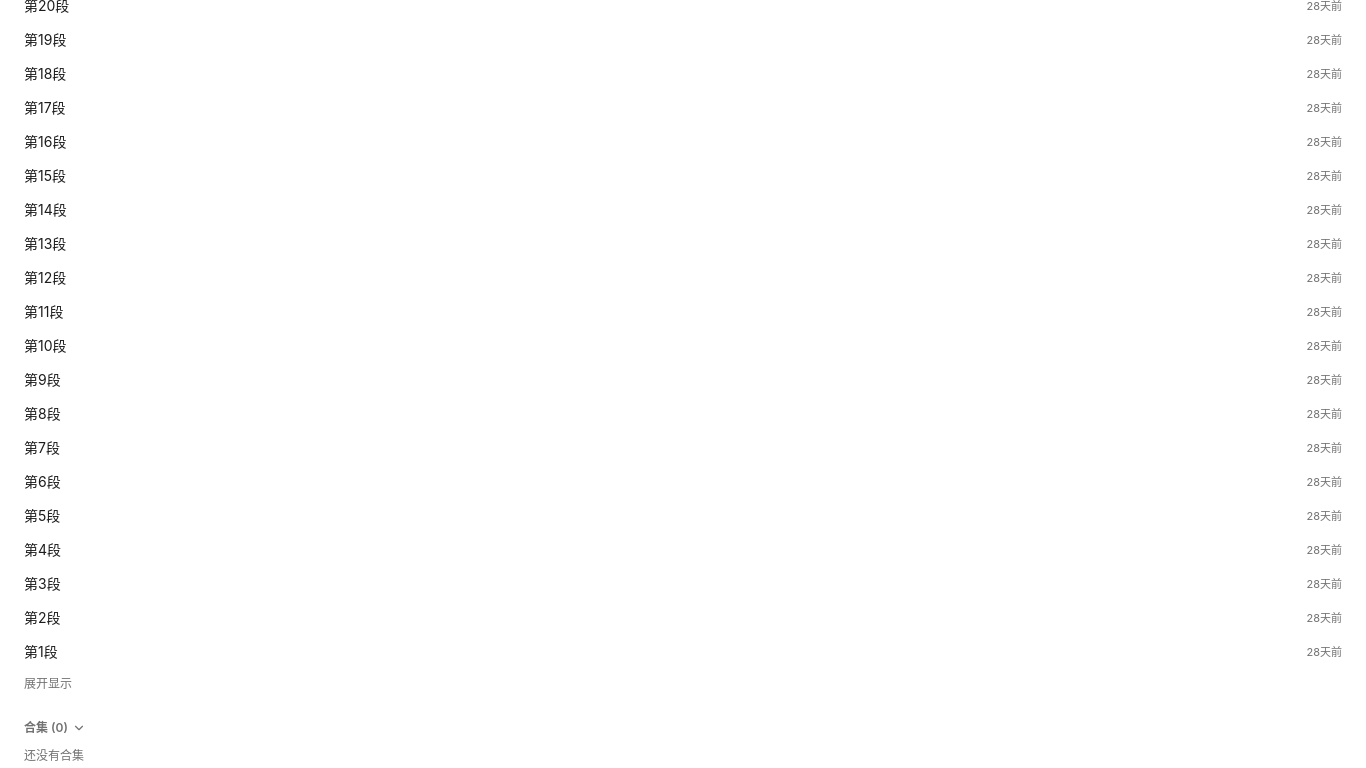
Test: SidebarConversations › 任务区：第一页 20 条，点「展开显示」把剩下的接上来
(page scrolled)
Click the button with aria-label "展开显示更多对话".
click(48, 684)  # box 12,670 -> 1354,698
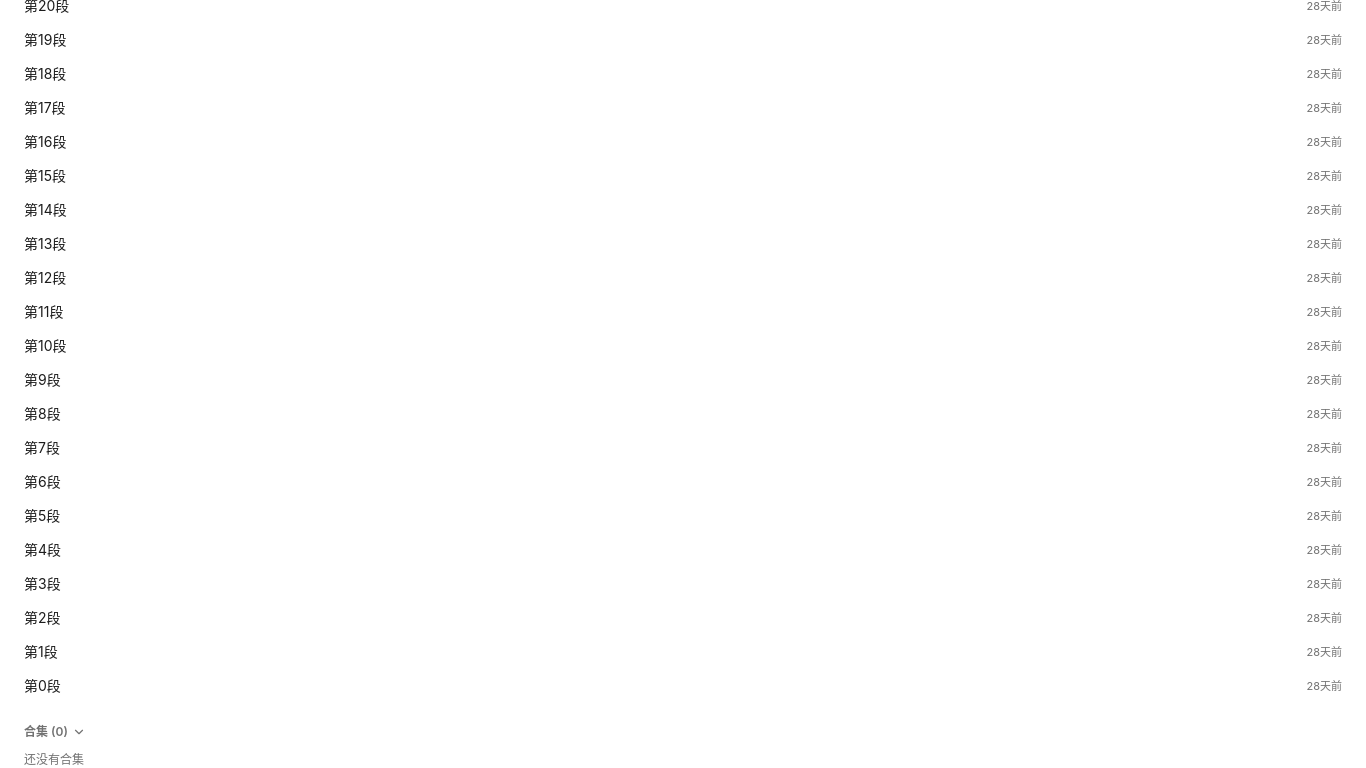
Check: the button "展开显示更多对话" is gone
